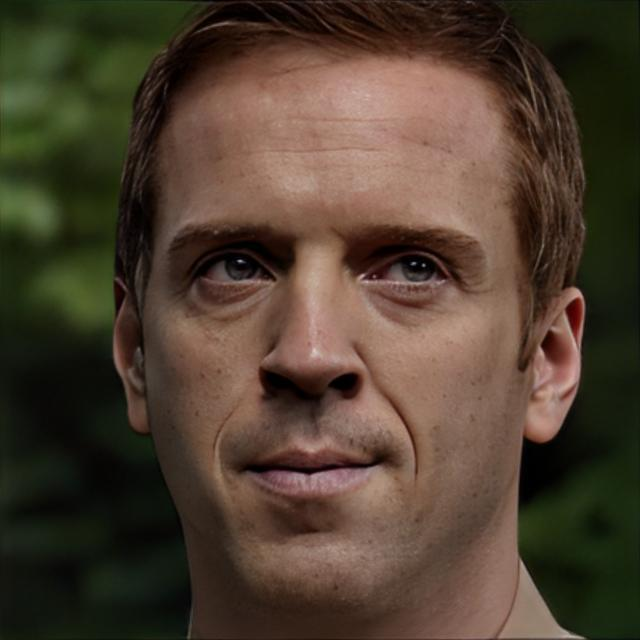content: (142, 47, 534, 614)
